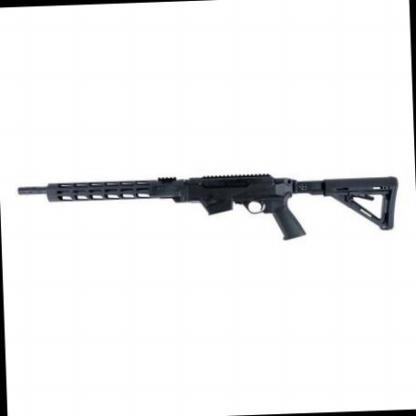rifle: (8, 154, 403, 257)
